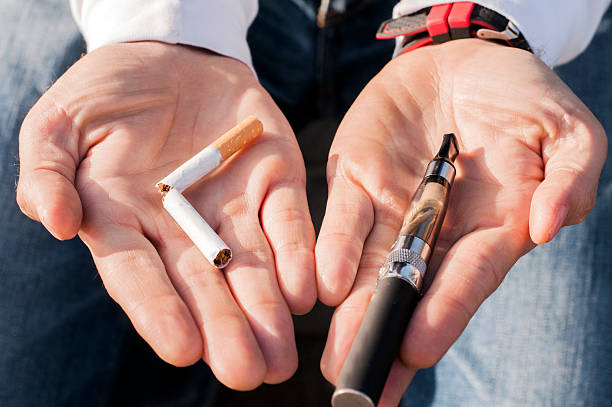cigarette: (330, 130, 462, 407), (156, 116, 264, 198), (161, 188, 233, 270)
